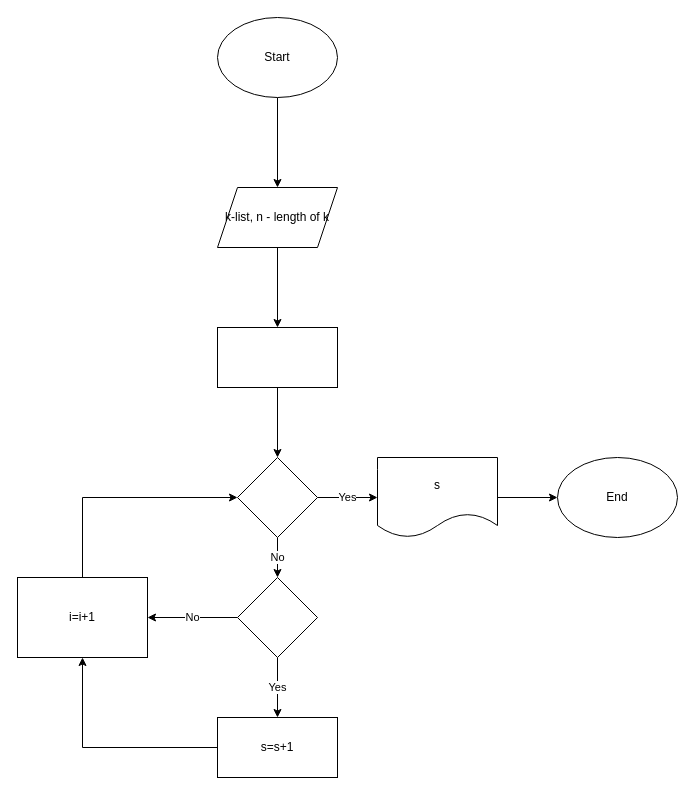
Some shapes in this 695 by 795 pixel diagram are drawn without their labels. Here are the shapes that lost their labels. From the top down, the centre of each, then its label:
At [277,357]: "i=s=0".
At [277,497]: "i=N".
At [277,617]: "k[i]>0".
